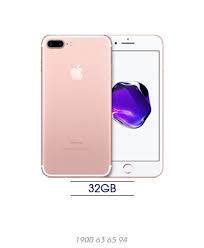iphone: (38, 33, 112, 179)
